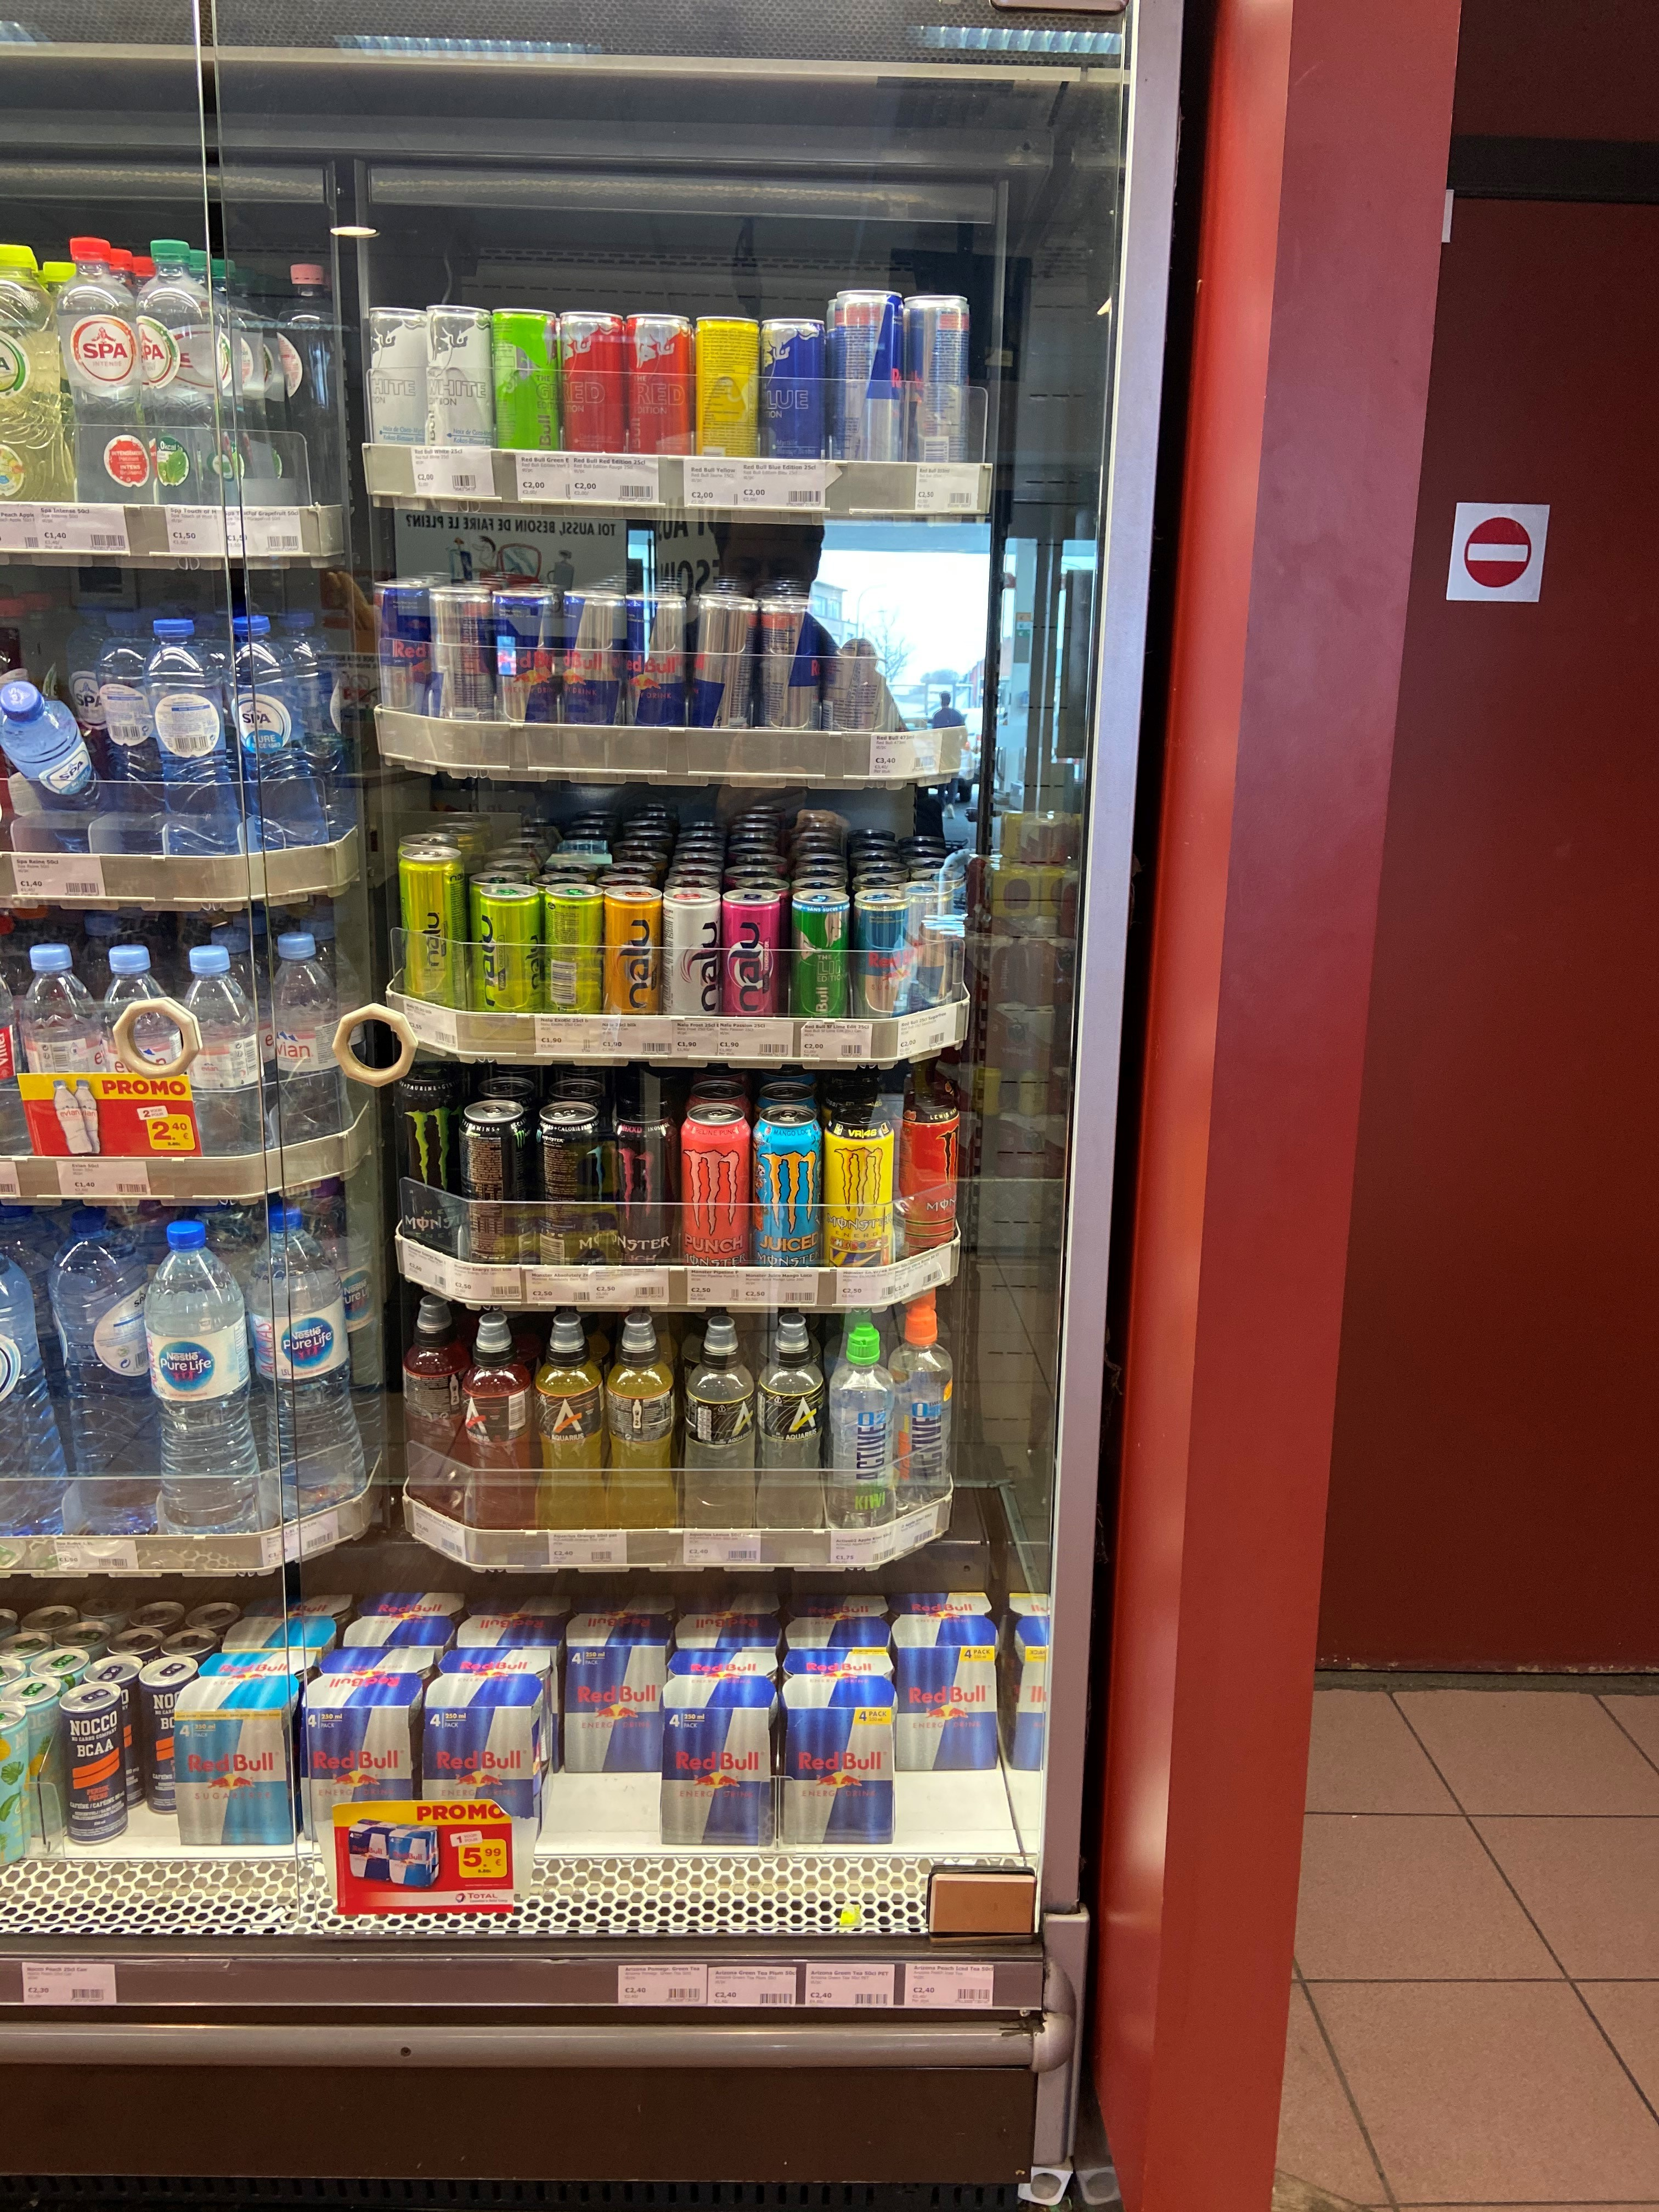ActiveO2Kiwi: (826, 1322, 896, 1531)
ActiveO2OrangeLemon: (889, 1301, 957, 1519)
AquariusLemonFles500ml: (681, 1313, 758, 1545), (756, 1313, 826, 1538)
AquariusOrangeFles: (532, 1308, 606, 1533), (605, 1312, 678, 1540)
AquariusRedPeachFles500ml: (460, 1312, 535, 1541), (401, 1291, 469, 1524)
EvianOriginal50cl: (185, 944, 272, 1162), (99, 944, 186, 1158), (270, 932, 356, 1150), (19, 942, 103, 1158)
Monster44: (890, 1090, 962, 1264)
MonsterAbsolutelyZero500ml: (535, 1101, 605, 1275)
MonsterMangoLoco500ml: (751, 1104, 824, 1278)
MonsterOriginal500ml: (397, 1061, 469, 1258), (458, 1099, 533, 1277)
MonsterPipelinePunch500ml: (678, 1104, 753, 1277)
MonsterPunchEnergy500ml: (608, 1108, 678, 1268)
MonsterTheDoctor500ml: (823, 1103, 896, 1278)
NaluExotic250ml: (603, 883, 662, 1022)
NaluFrost250ml: (662, 887, 721, 1022)
NaluOriginal250ml: (476, 881, 544, 1028), (544, 883, 606, 1024)
NaluOriginal350ml: (399, 845, 471, 1017)
NaluPassion250ml: (721, 888, 784, 1019)
NoccoCaribbean: (2, 1674, 61, 1834), (2, 1700, 30, 1867)
NoccoPeach: (52, 1679, 127, 1844), (138, 1655, 202, 1815)
PureLife: (249, 1209, 368, 1524), (145, 1216, 260, 1538)
RedBullBlue: (760, 319, 830, 463)
RedBullGreen: (490, 307, 558, 455)
RedBullLime: (789, 888, 850, 1019)
RedBullOriginalBlik250ml: (427, 585, 491, 751), (622, 594, 688, 749), (758, 597, 824, 751), (493, 589, 558, 745), (559, 587, 626, 738), (692, 594, 756, 745), (373, 580, 430, 737)
RedBullOriginalBlik355ml: (835, 289, 908, 467), (903, 296, 971, 467)
RedBullOriginalBlik473ml: (824, 599, 892, 752)
RedBullOriginalBlik4x250ml: (418, 1646, 554, 1850), (300, 1644, 437, 1843), (779, 1648, 896, 1848), (659, 1649, 777, 1846), (889, 1590, 1000, 1771), (561, 1592, 673, 1773)
RedBullRed: (624, 314, 692, 462), (556, 312, 624, 458)
RedBullSugarFree335ml: (854, 890, 917, 1021), (899, 880, 953, 1014)
RedBullSugarFree4x250ml: (176, 1649, 319, 1846)
RedBullWhite: (427, 303, 495, 456), (366, 307, 429, 458)
RedBullYellow: (694, 315, 760, 463)
SpaBlauw1,5L: (49, 1211, 157, 1534), (0, 1226, 64, 1541)
SpaBlauw50cl: (227, 613, 321, 848), (143, 618, 235, 857), (96, 608, 166, 860), (2, 679, 103, 852)
SpaGrapefruit: (275, 263, 345, 512)
SpaLemonCucumber: (0, 242, 59, 512)
SpaMint: (138, 239, 220, 517)
SpaRood50cl: (61, 235, 148, 517)
